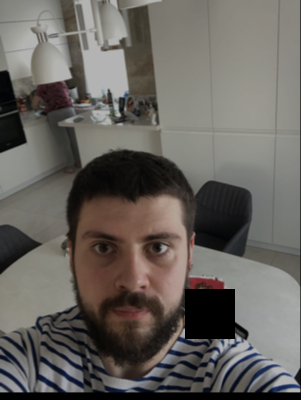without_mask: (75, 214, 185, 365)
